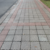zebra: (8, 2, 50, 46)
